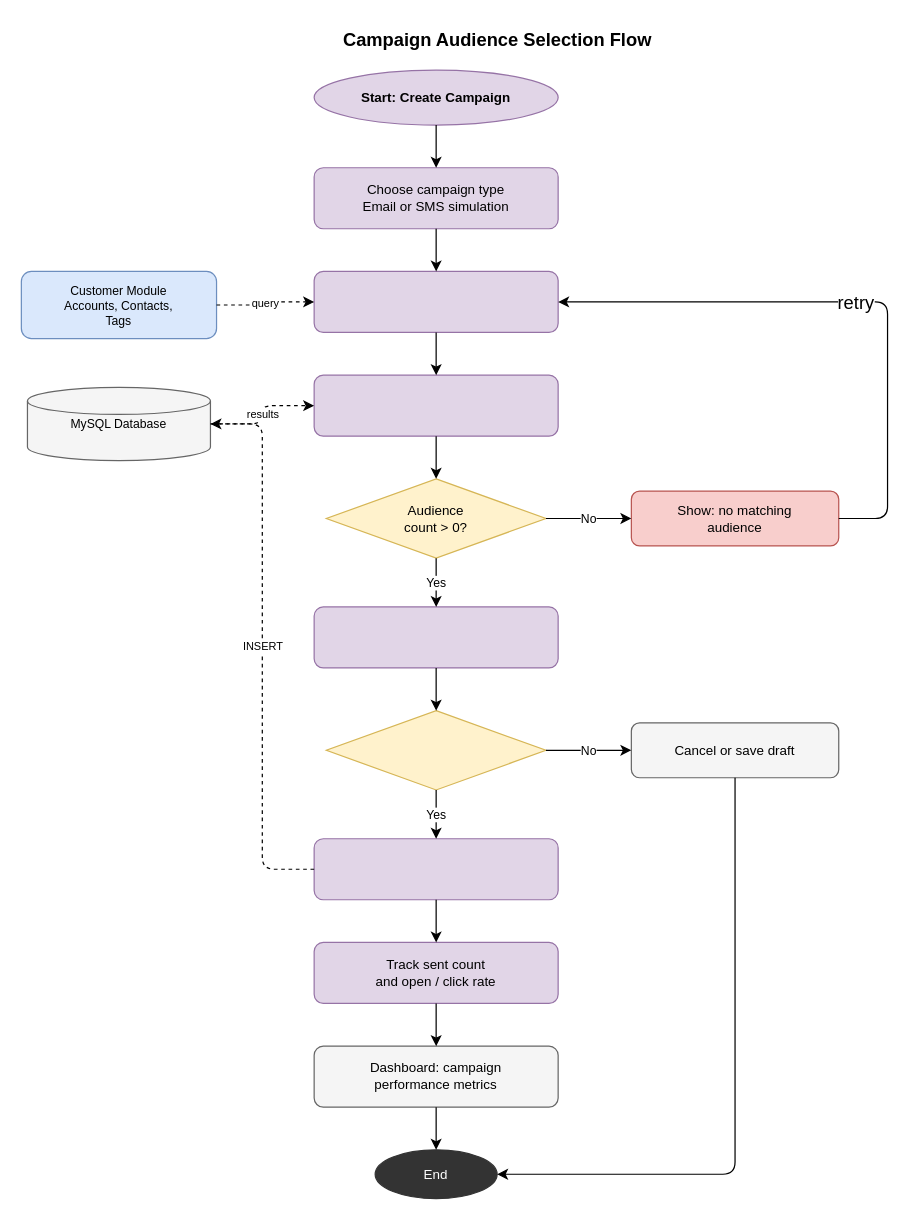
This 919x1220 diagram has some shape labels left out. Each missing label, with the centre of its shape:
"Confirm campaign?" belongs at [435,749].
"Preview audience count to Marketing User" belongs at [435,637].
"Query matching accounts / contacts" belongs at [435,405].
"Save campaign and audience" belongs at [435,869].
"Select audience criteria segments / tags / filters" belongs at [435,301].
